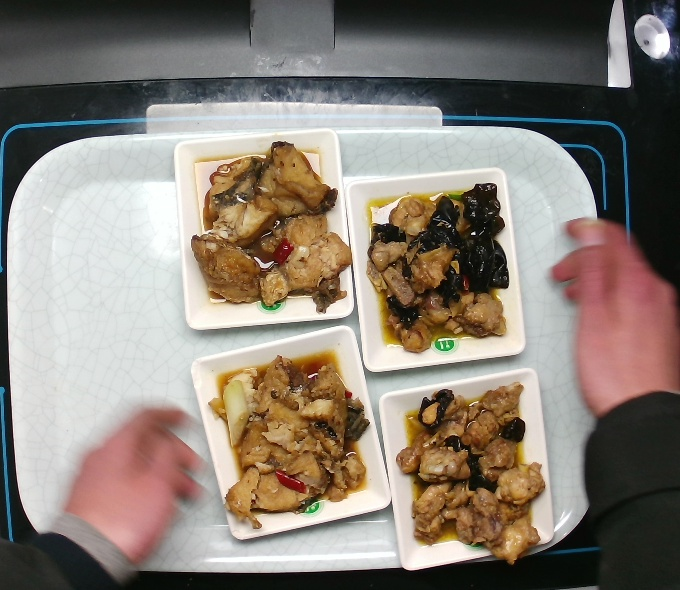wcq-MuErRouKuai: (393, 379, 548, 569), (361, 179, 514, 356)
wcq-YuKuai: (184, 136, 360, 319), (201, 350, 375, 534)
